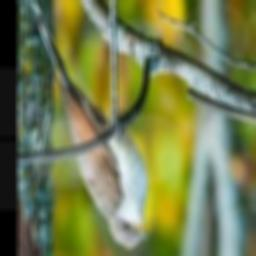Cuckoo: (32, 1, 149, 249)
